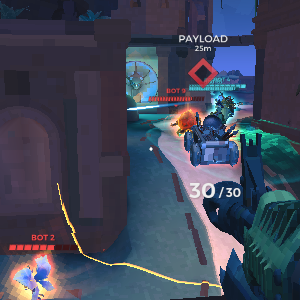model: (15, 256, 56, 300), (173, 107, 203, 140)
